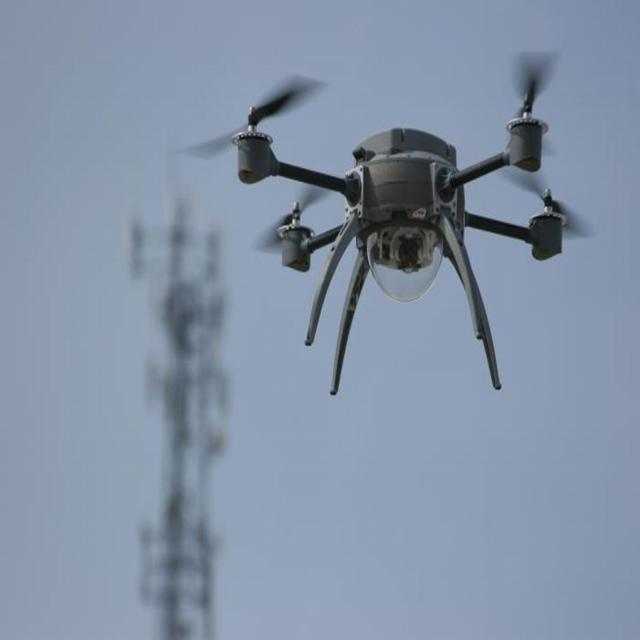UAV: (233, 87, 569, 399)
